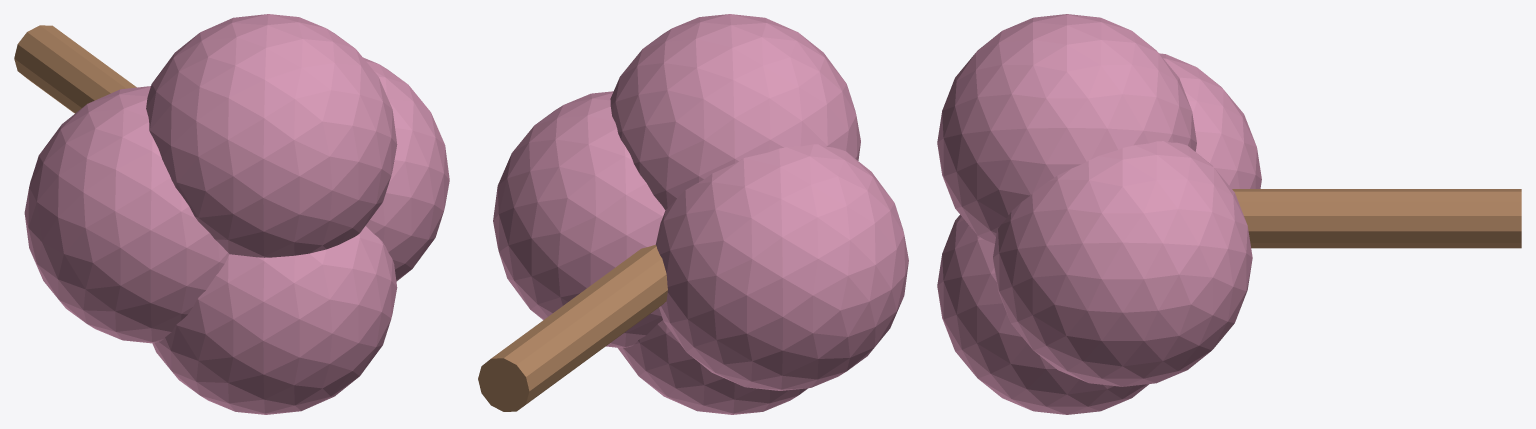
File: tree_blossom.glb
3 views of the same model, side by side, from view 1: azimuth 30°, elevation 25°; view 2: azimuth 150°, elevation 25°; view 3: azimuth 270°, elevation 25° (orthographic).
Visible parts, largest first — view 1: foliage_3, foliage_1, foliage_4, foliage_2, trunk_0; view 2: foliage_1, foliage_3, foliage_2, trunk_0, foliage_4; view 3: foliage_2, foliage_3, trunk_0, foliage_4, foliage_1.
Boxes of the visible parts, <box> form: foliage_3: <box>146,14,397,257</box>; foliage_1: <box>24,86,229,343</box>; foliage_4: <box>152,226,397,414</box>; foliage_2: <box>363,57,449,281</box>; trunk_0: <box>14,25,136,113</box>; foliage_1: <box>655,144,908,390</box>; foliage_3: <box>610,14,860,209</box>; foliage_2: <box>493,91,665,347</box>; trunk_0: <box>478,245,667,411</box>; foliage_4: <box>617,320,807,414</box>; foliage_2: <box>993,141,1252,386</box>; foliage_3: <box>937,14,1196,243</box>; trunk_0: <box>1232,189,1521,248</box>; foliage_4: <box>937,215,1149,414</box>; foliage_1: <box>1159,53,1261,188</box>.
Size of the model in its own units: 2.4 by 2.25 by 3.15.
